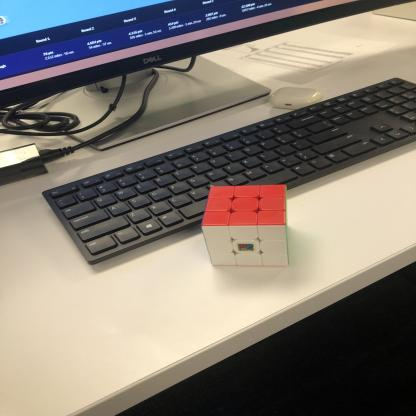SolvedCube: (203, 180, 291, 271)
